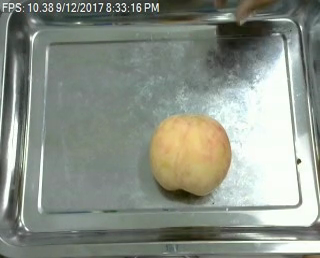Peach: (149, 112, 232, 196)
